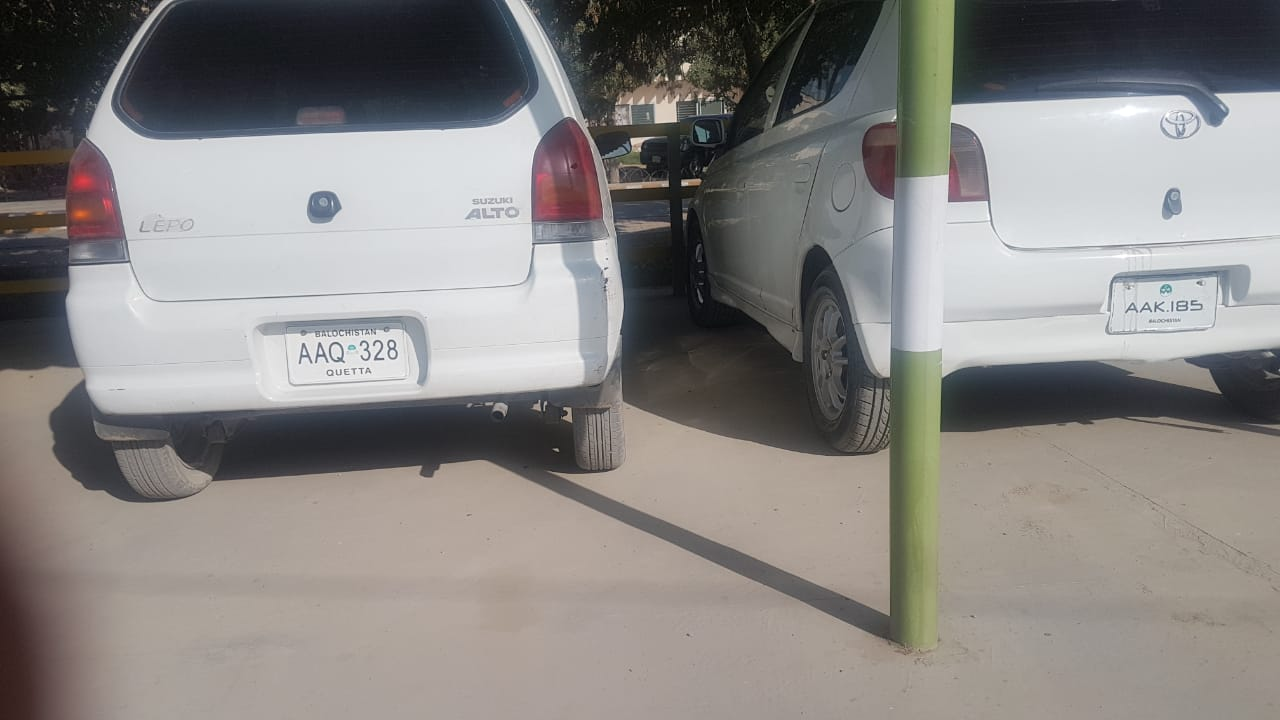license plate: (286, 328, 410, 381), (1113, 278, 1219, 331)
